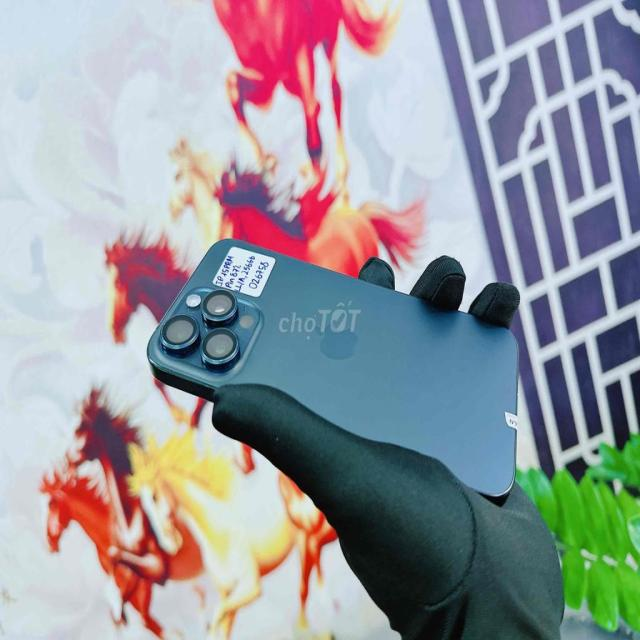gen_15: (145, 228, 531, 507)
